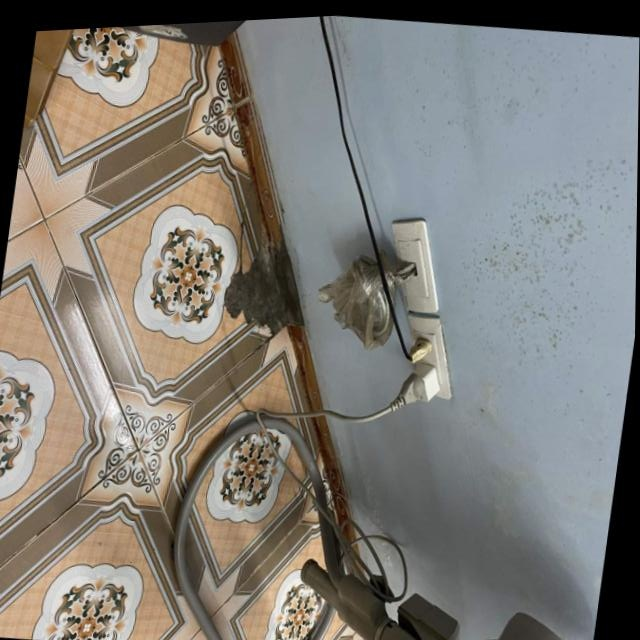outlet: (397, 310, 464, 404)
